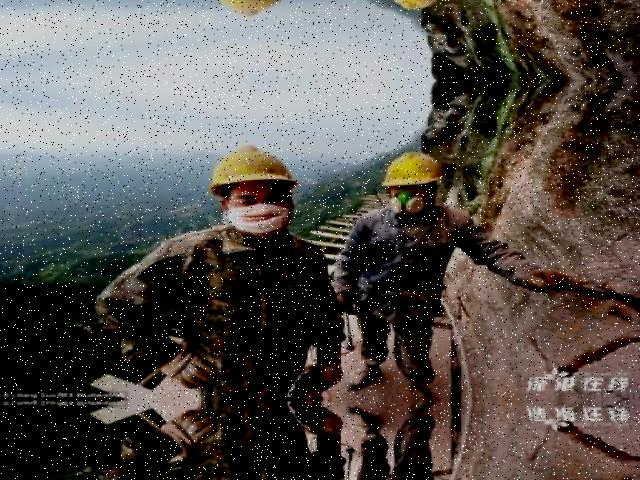Helmet: (203, 140, 300, 197), (372, 146, 450, 192)
